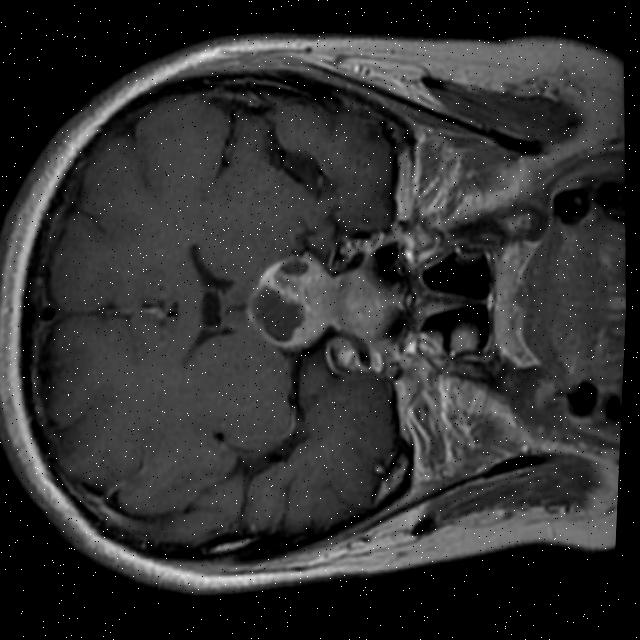Pituitary: (241, 251, 339, 351), (333, 266, 407, 339)
